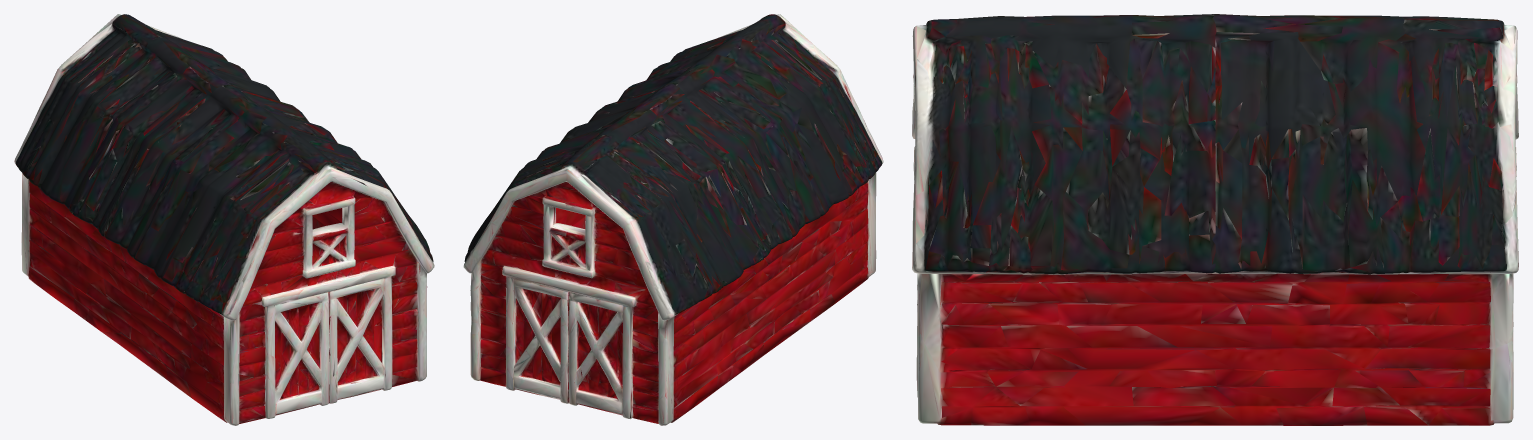
3 views of the same model, side by side, from view 1: azimuth 30°, elevation 25°; view 2: azimuth 150°, elevation 25°; view 3: azimuth 270°, elevation 25° (orthographic). The views are drawn at different scales.
Size of the model in its own units: 1.23 by 1.19 by 1.9.
Materials: 1 (1 with a texture image).
